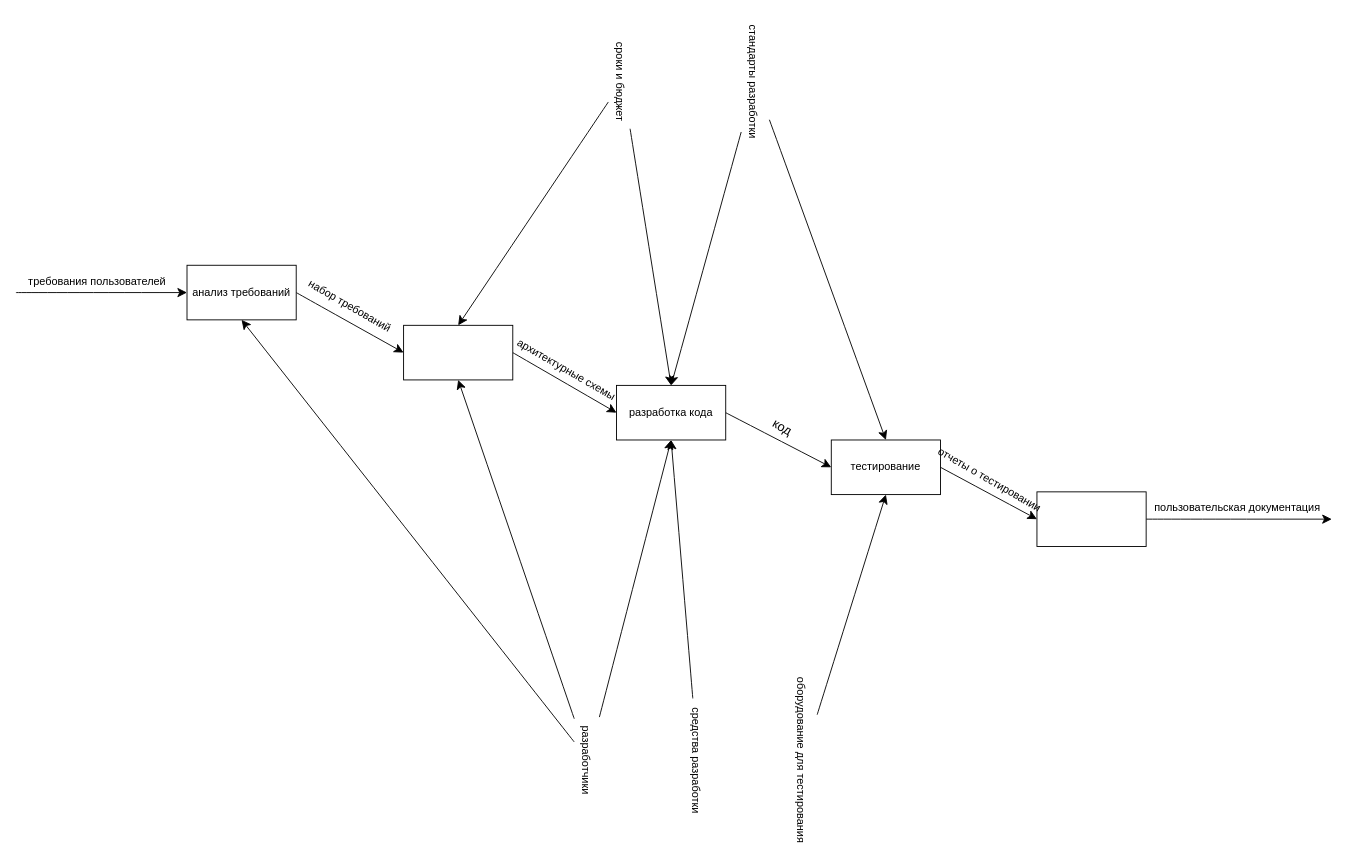
The diagram is 1347 pixels wide and 866 high, and some of its shapes have lost their labels. Here are the shapes that lost their labels. From the top down, the centre of each, then its label:
At point (458, 352): "проектирование архитектуры".
At point (1091, 518): "документация".
